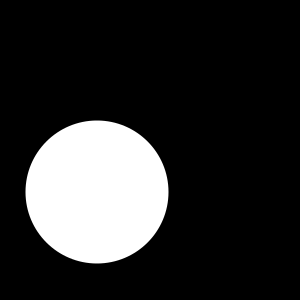rectangle: (25, 120, 168, 264)
